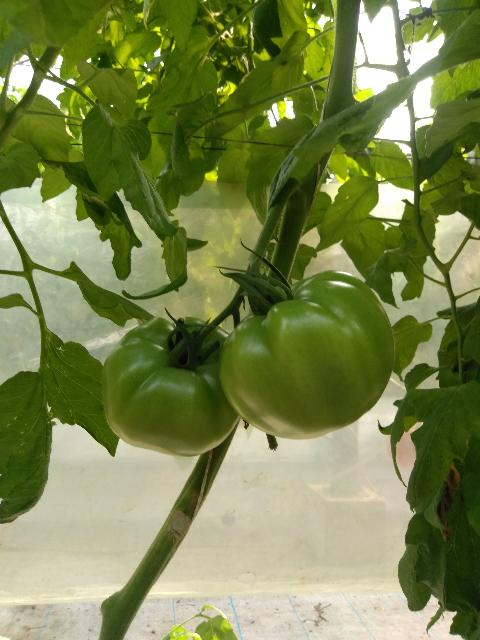b_green: (218, 270, 395, 440), (102, 317, 241, 457)
